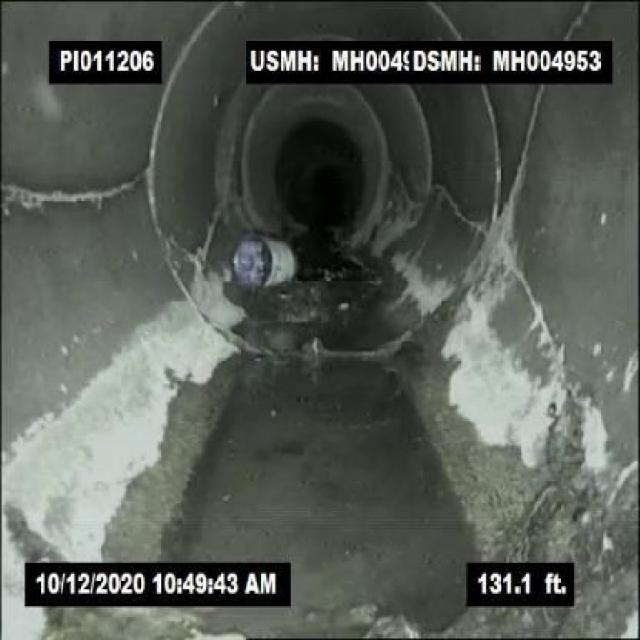Crack: (503, 249, 611, 428), (3, 169, 145, 220), (498, 88, 540, 222)
